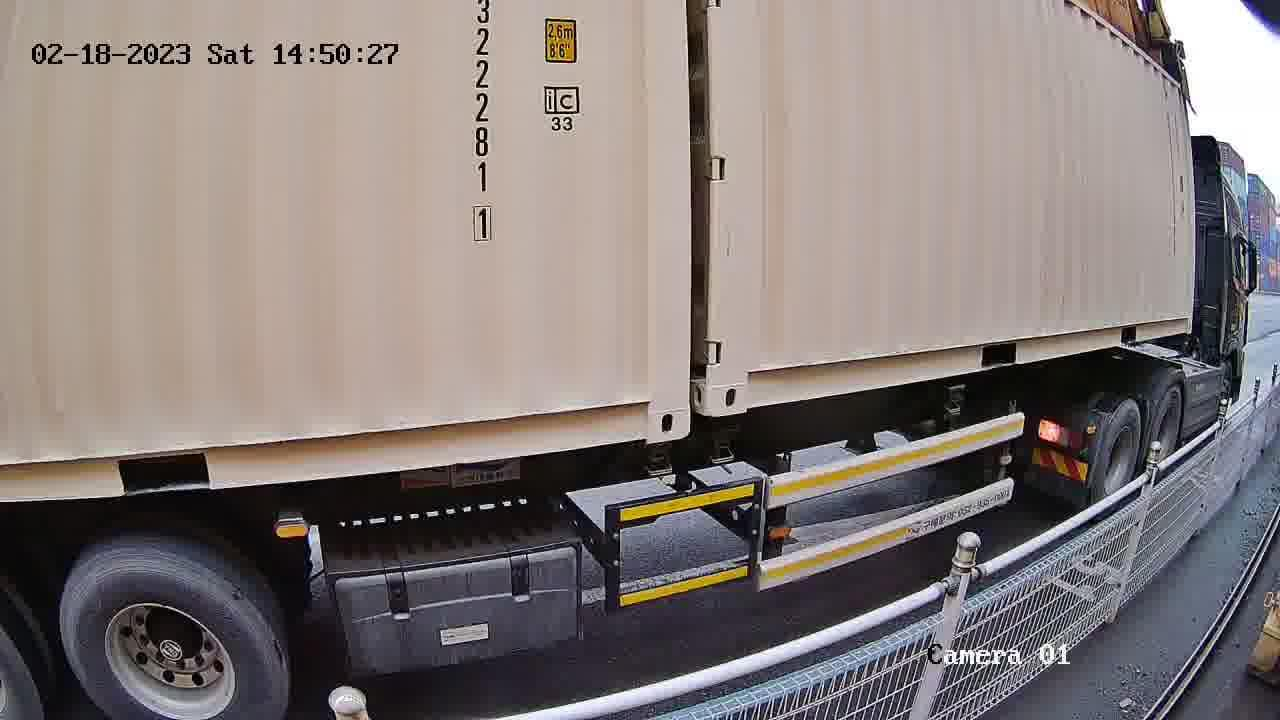Cone: (704, 420, 741, 473), (641, 439, 676, 480)
Hole_L: (710, 349, 779, 418)
Hole_R: (607, 375, 690, 443)
Tire: (66, 553, 284, 717), (1095, 401, 1141, 509), (1151, 386, 1181, 474)
